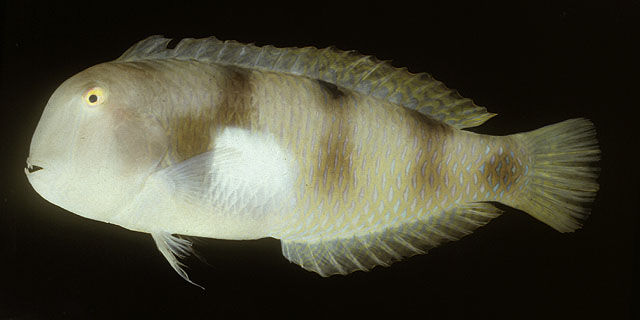fish: (24, 34, 602, 291)
